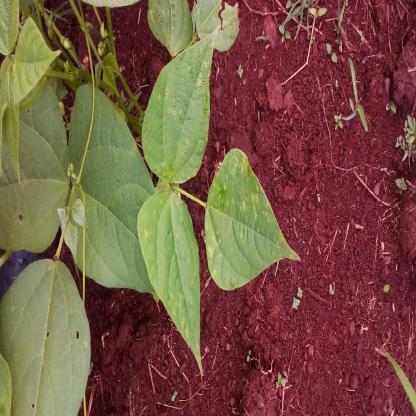Beans_Rust: (204, 145, 300, 294), (143, 190, 200, 380), (148, 37, 210, 183)
